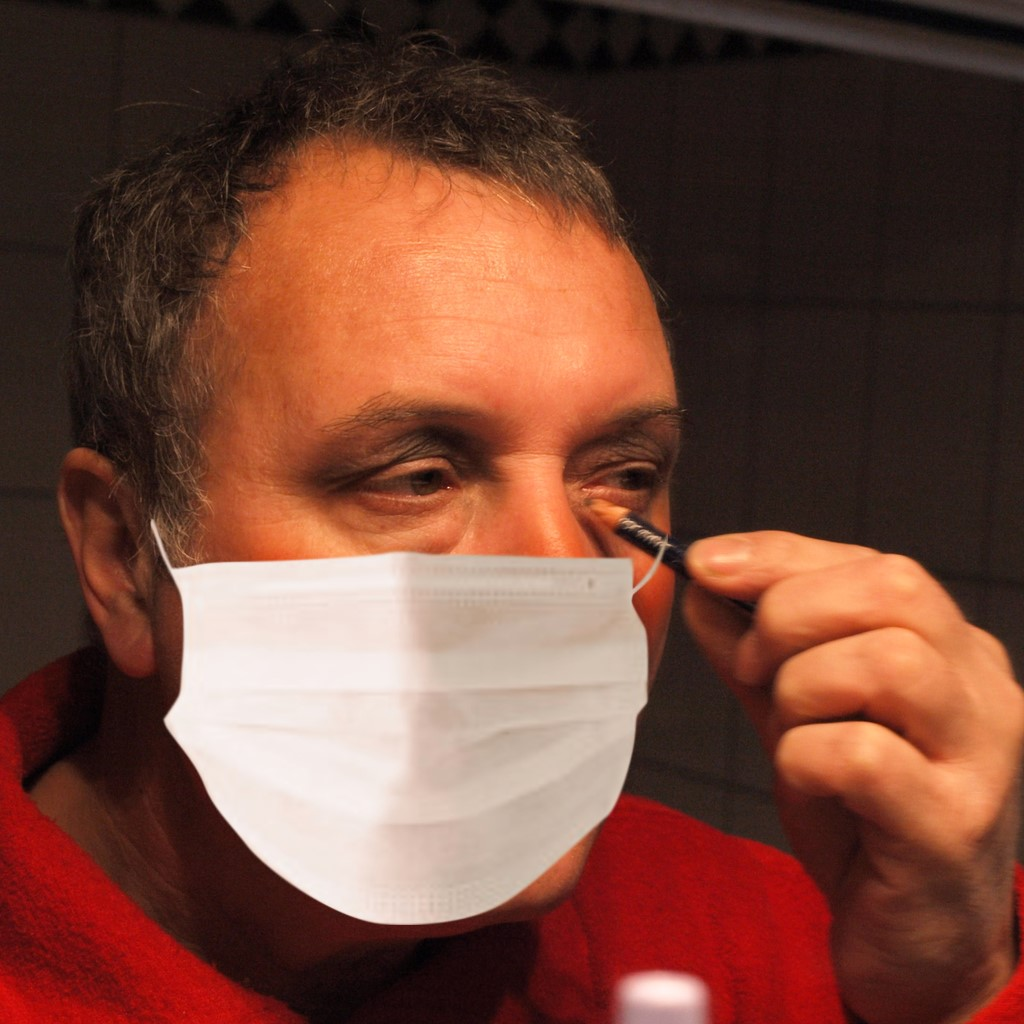con_mascara: (91, 142, 679, 918)
